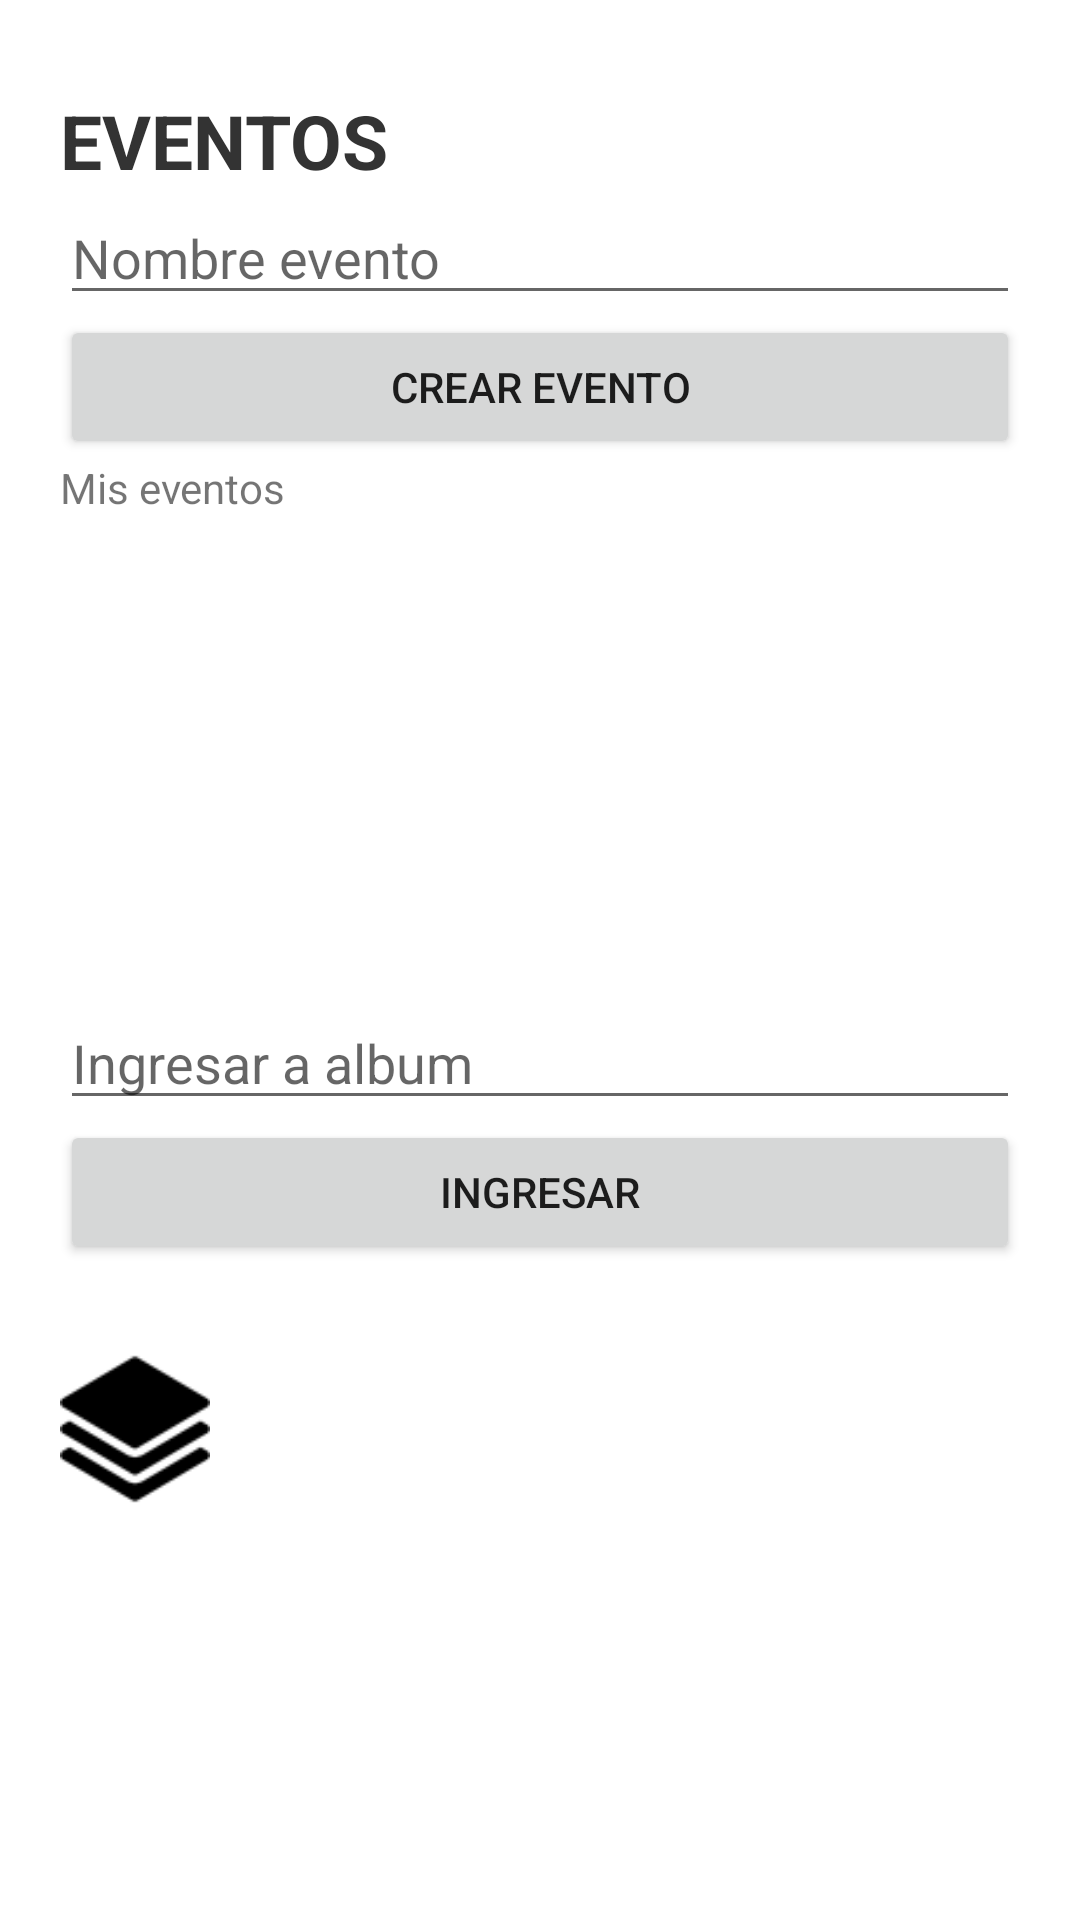

Where to tap for icons on this 1080*1920 app screen, as [x,y]:
albumes: [135,1429]
